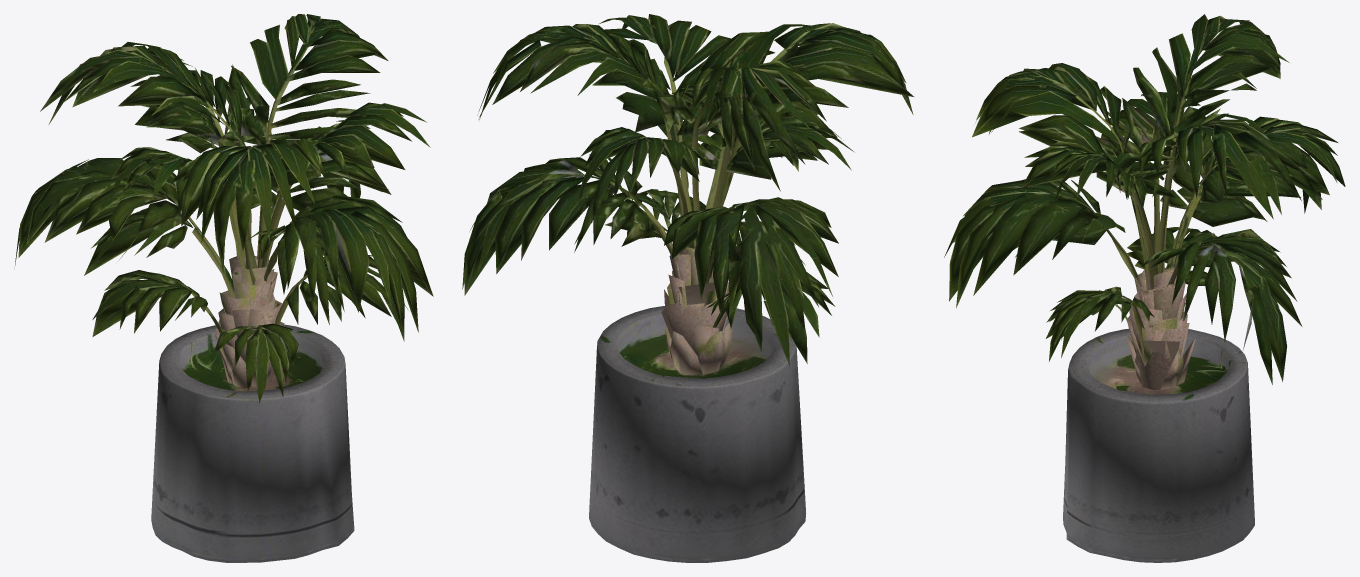
Rendered from plant2_opt.glb.
3 views of the same model, side by side, from view 1: azimuth 30°, elevation 25°; view 2: azimuth 150°, elevation 25°; view 3: azimuth 270°, elevation 25° (orthographic). The views are drawn at different scales.
Size of the model in its own units: 0.7383 by 0.9526 by 0.7641.
1 material, 1 textured.
